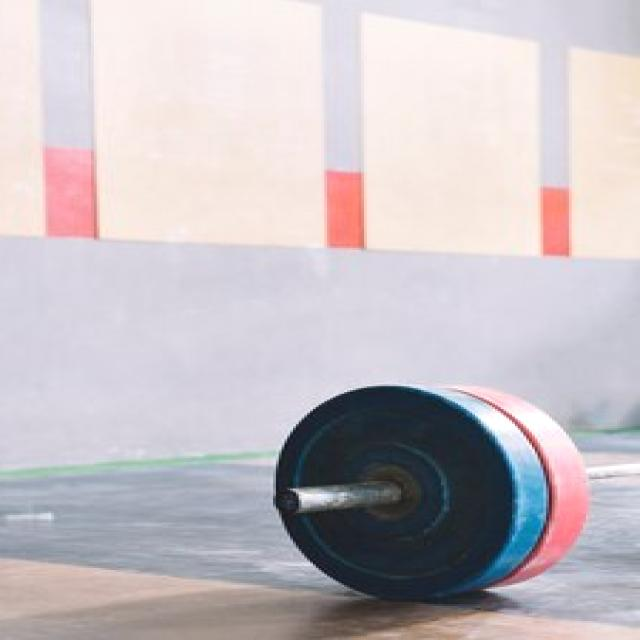barbell_plate_side: (273, 381, 365, 600), (548, 381, 640, 600)
